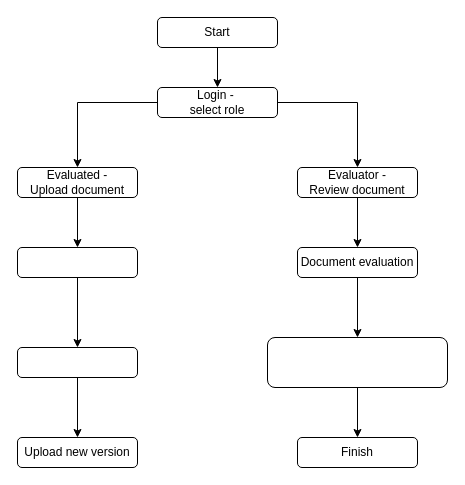
The diagram is 465 pixels wide and 485 high, and some of its shapes have lost their labels. The shapes that lost their labels are listed below. From the top down, each one's centre as x and y in pixels, then its label:
(x=77, y=262): Wait evaluation
(x=77, y=362): Receive evaluation
(x=357, y=362): Asign status acepted / evaluated /canceled /approved
